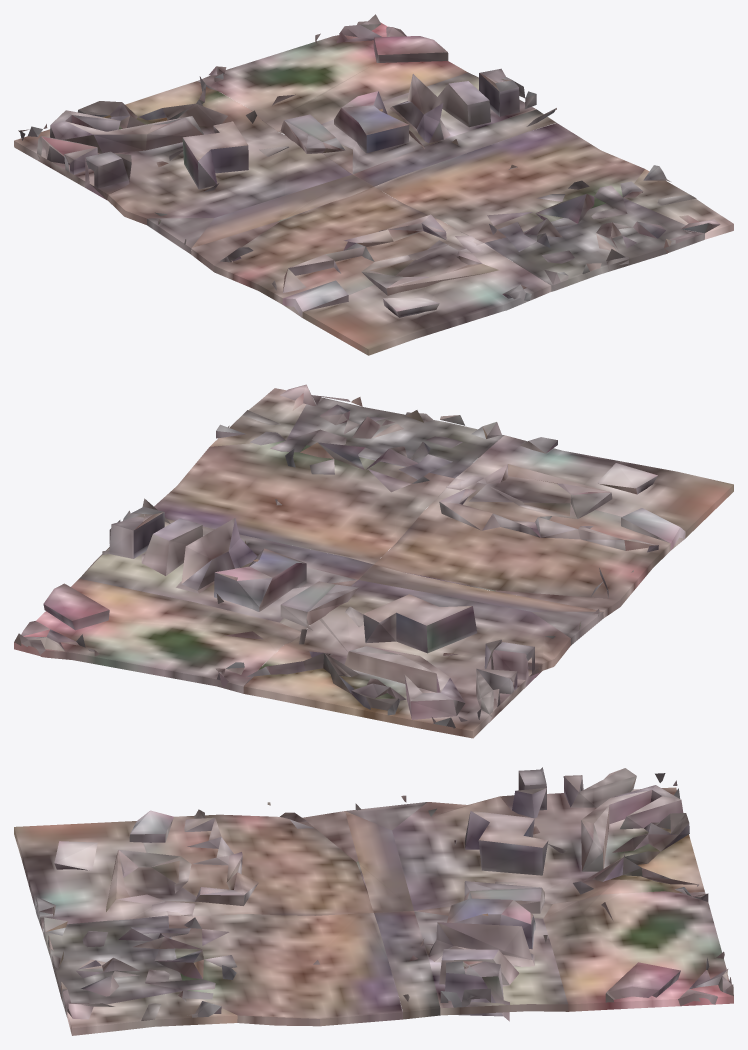
3 renders of one model, top to bottom at view 1: azimuth 30°, elevation 25°; view 2: azimuth 150°, elevation 25°; view 3: azimuth 270°, elevation 25°, orthographic. The views are drawn at different scales.
Visible parts, largest first — view 1: Mesh_0; view 2: Mesh_0; view 3: Mesh_0.
Boxes of the visible parts, x1,y1,x2,y2 form: Mesh_0: [14, 14, 733, 355]; Mesh_0: [14, 384, 733, 738]; Mesh_0: [14, 767, 733, 1035].
Bounding box in the file's own units: 533 × 61.97 × 659.
Materials: 1 (1 with a texture image).
